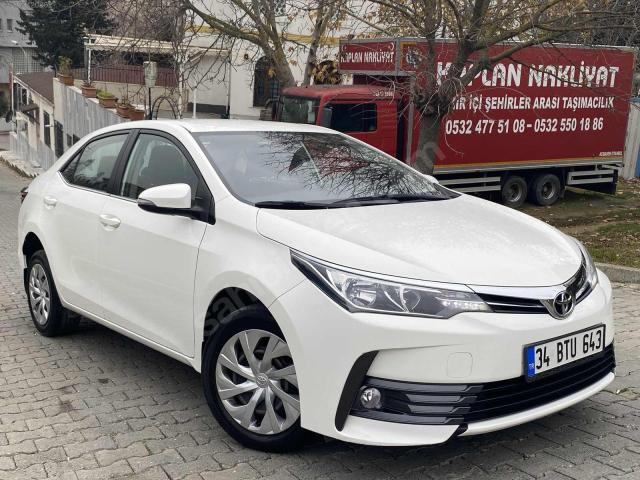plaka: (526, 324, 606, 377)
